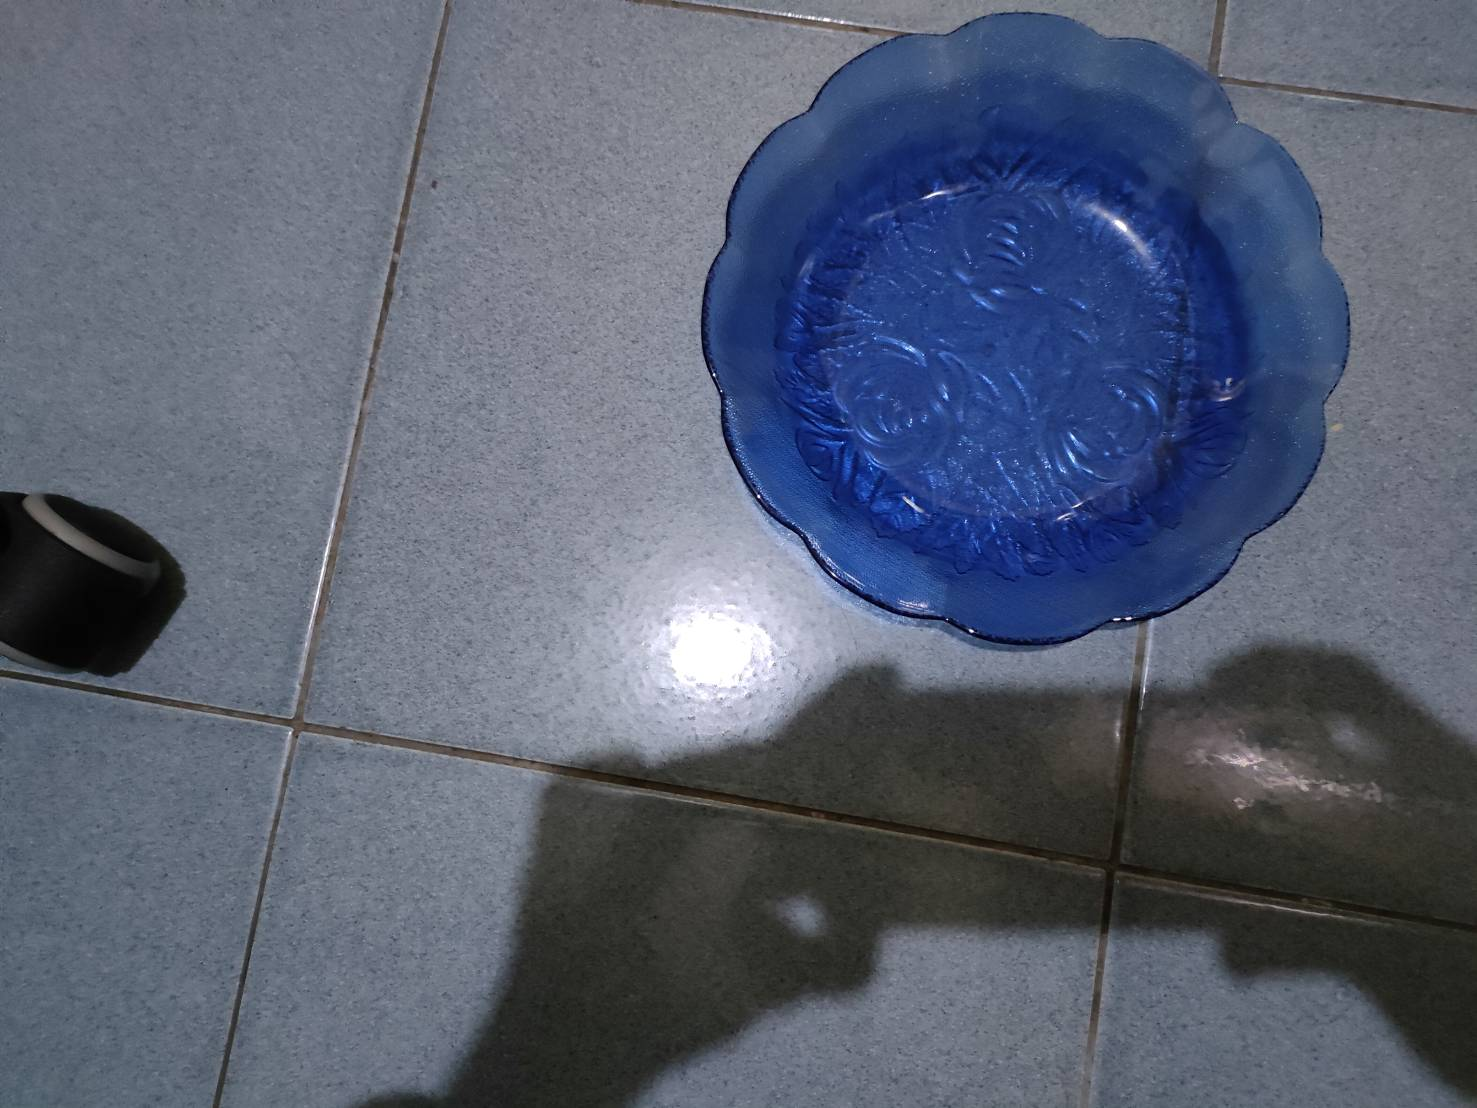piring: (698, 8, 1352, 647)
